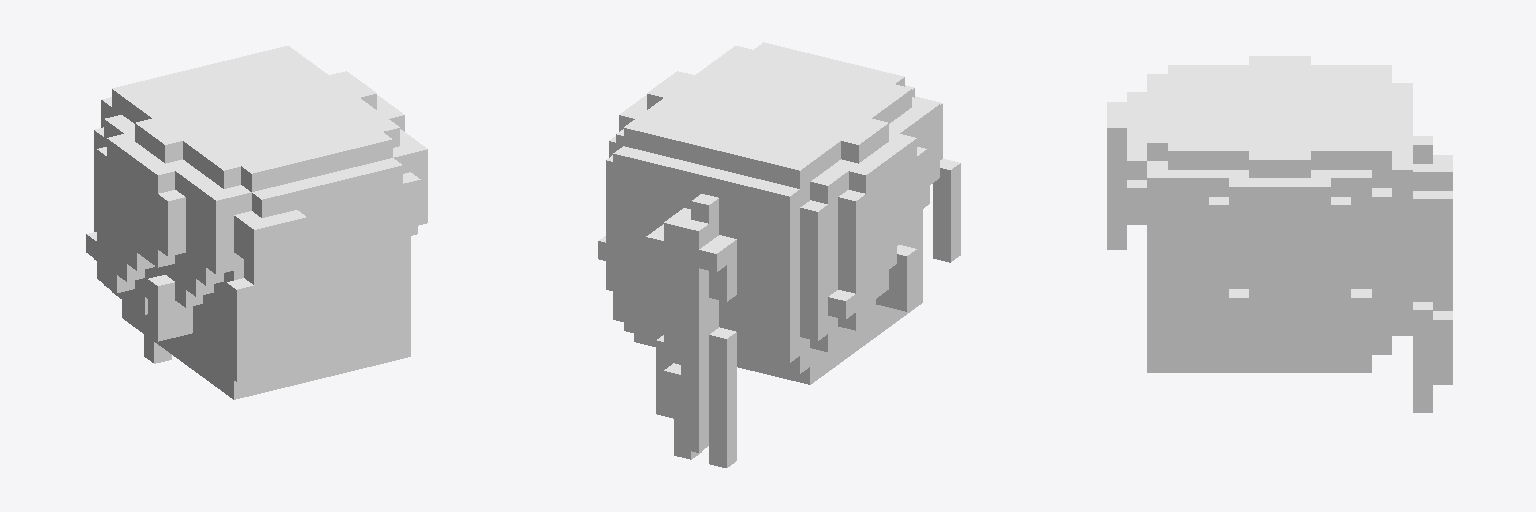
Rendered from Cabeça.obj.
The picture shows the model from 3 angles: view 1: azimuth 30°, elevation 25°; view 2: azimuth 150°, elevation 25°; view 3: azimuth 270°, elevation 25°; orthographic projection.
Parts seen in each view (by area): view 1: object 1; view 2: object 1; view 3: object 1.
Part boxes in pixels (x1,y1,x2,y2): object 1: (86,46,427,399); object 1: (598,42,960,467); object 1: (1107,56,1452,412).
Size of the model in its own units: 1.4 by 1.6 by 1.7.